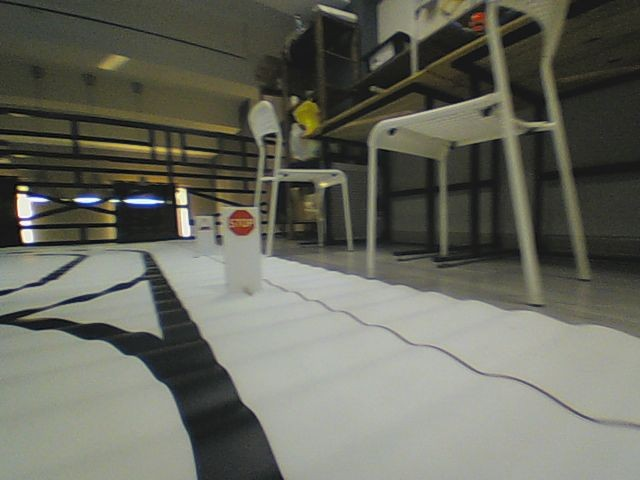Stop: (226, 208, 255, 236)
